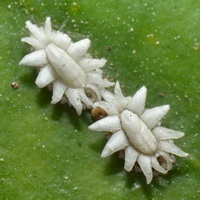insect: (19, 17, 187, 183), (89, 81, 187, 183), (19, 17, 113, 114)
